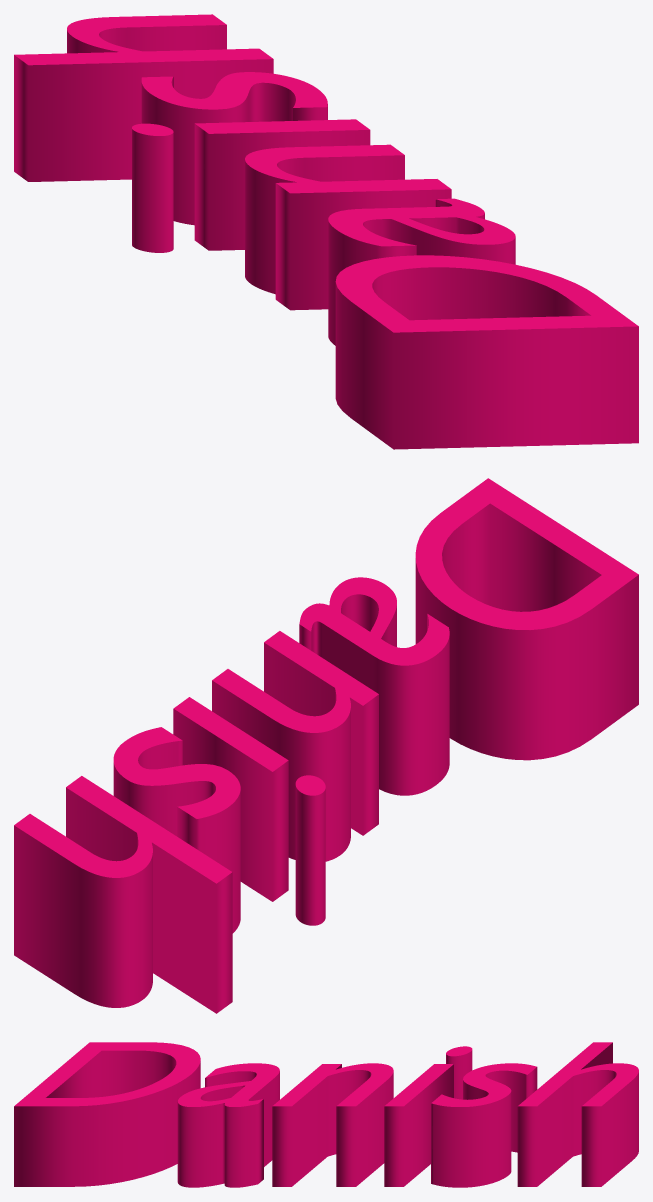
3 renders of one model, top to bottom at view 1: azimuth 30°, elevation 25°; view 2: azimuth 150°, elevation 25°; view 3: azimuth 270°, elevation 25°, orthographic. The views are drawn at different scales.
Parts seen in each view (by area): view 1: Danish; view 2: Danish; view 3: Danish.
Part boxes in pixels (bbox=[...]): Danish: bbox=[14, 14, 638, 449]; Danish: bbox=[14, 478, 638, 1013]; Danish: bbox=[14, 1042, 638, 1187].
Size of the model in its own units: 1.38 by 0.8 by 5.62.
